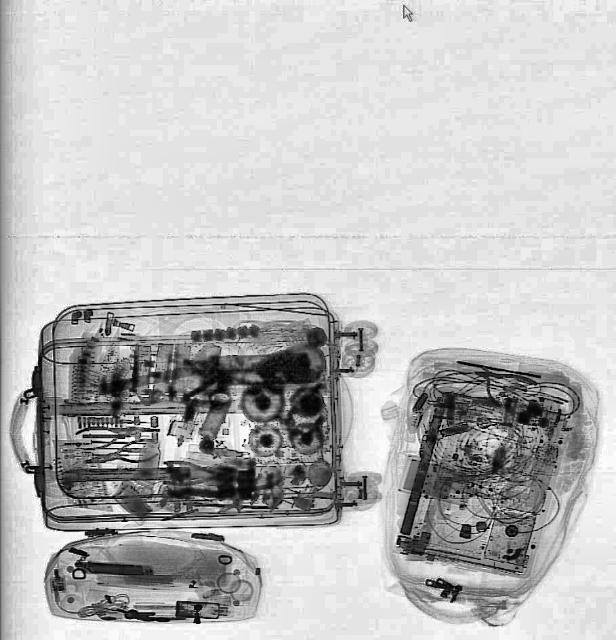Pliers: (464, 349, 540, 416), (78, 434, 160, 476), (71, 415, 147, 453), (159, 458, 227, 484)
